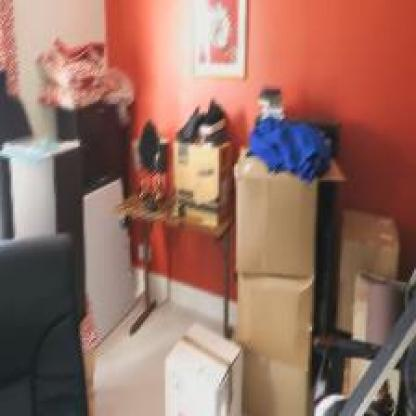other: (111, 3, 413, 112)
